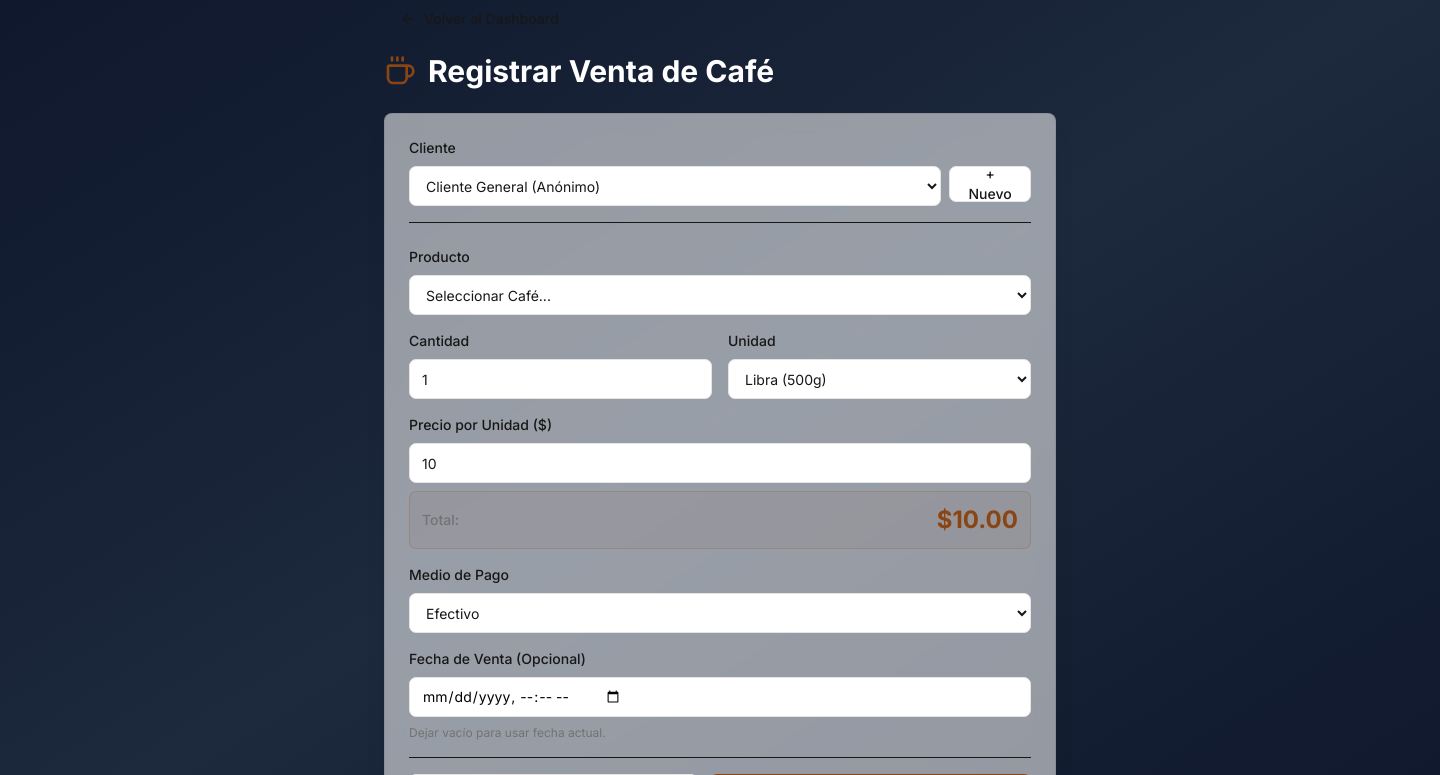
it: NuevaVentaPage › Form Submission › should show loading state during submission
This screenshot has width=1440, height=775.
Note: Select product
Select "Cafe Especial" in the dropdown labelled "Producto" at x=720, y=295, box [409, 275, 1031, 315]
(page scrolled)
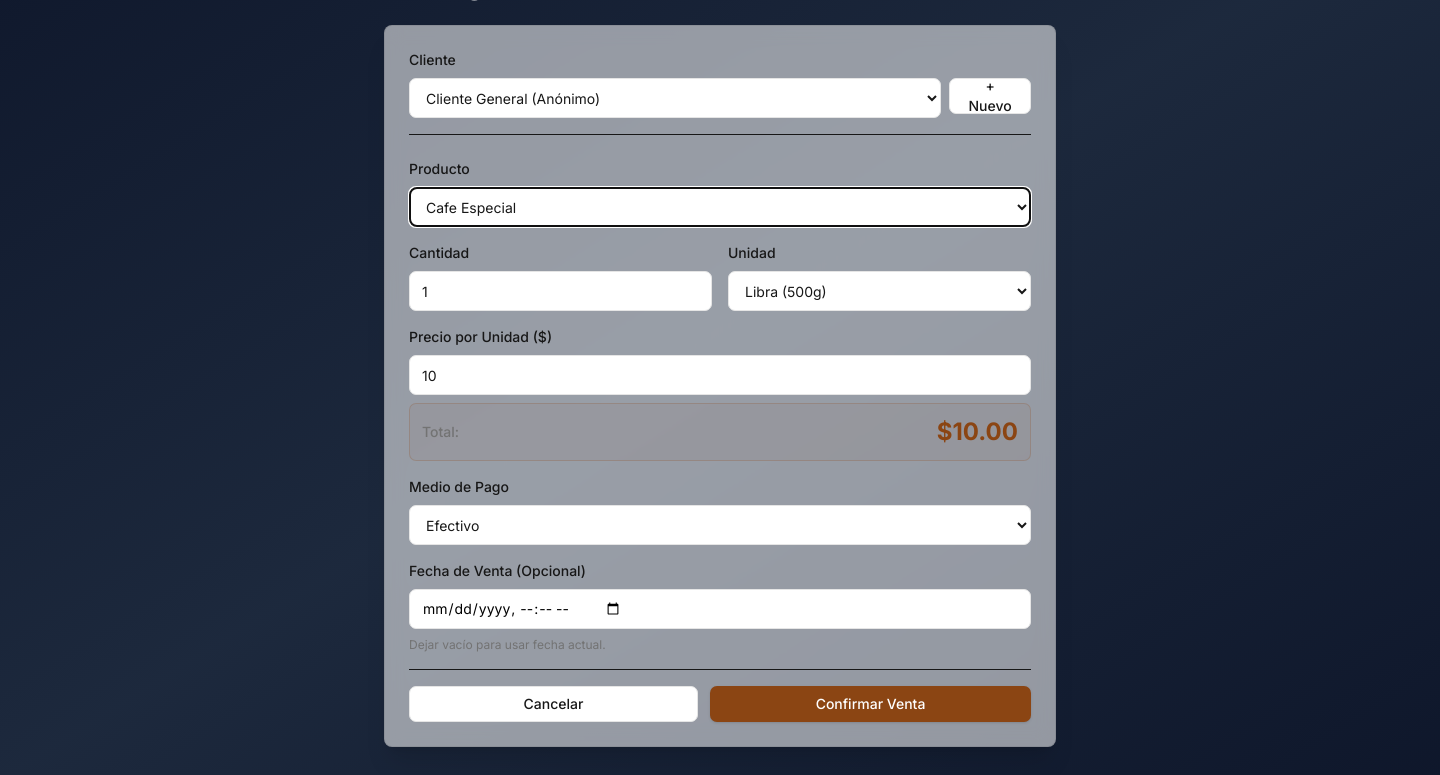
Click the button "Confirmar Venta" at x=870, y=704, box [710, 686, 1031, 722]
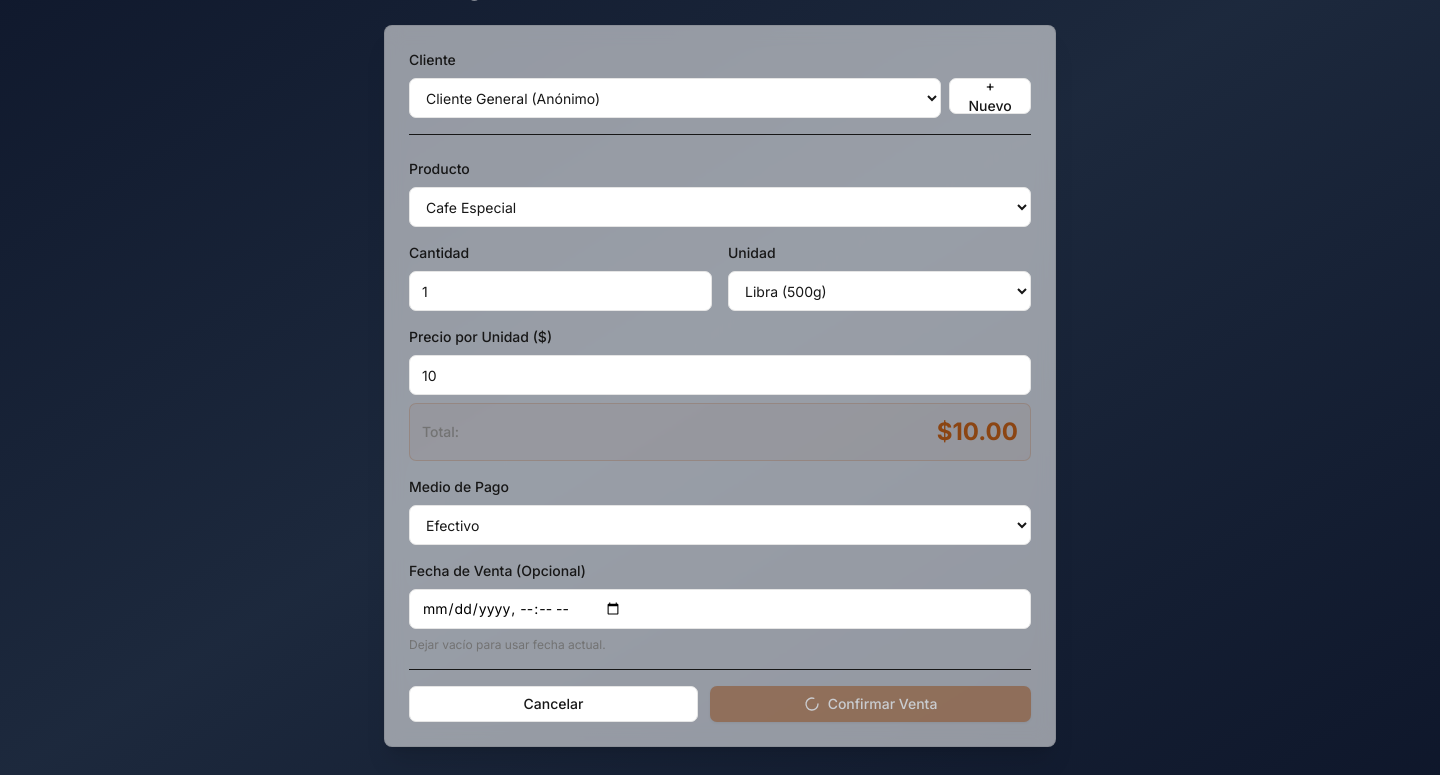
Check: the button "Confirmar Venta" is disabled, box [710, 686, 1031, 722]
